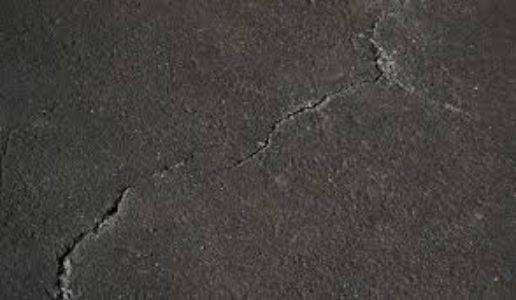crack: (225, 73, 381, 172), (55, 186, 131, 300), (367, 13, 416, 93)
